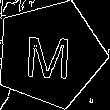M_N: (25, 27, 76, 81)
